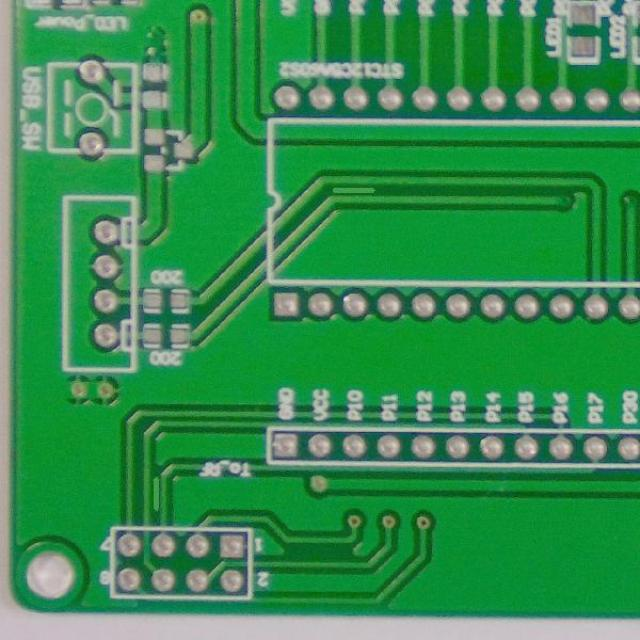Spurious_Cooper: (328, 182, 378, 196), (148, 472, 161, 513)
